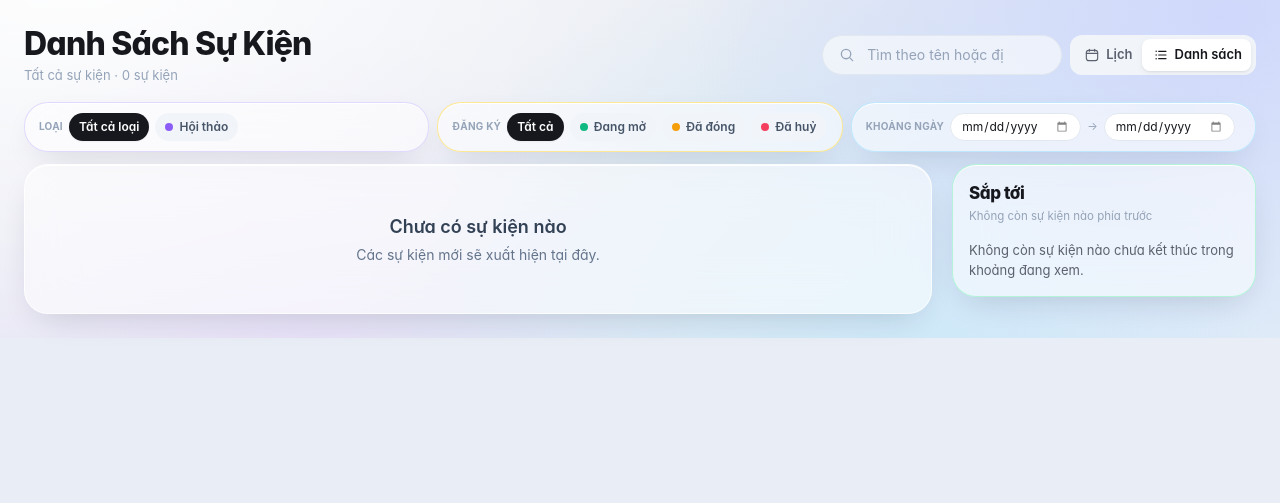
EventListPage — chế độ danh sách › chỉ tìm sau thời gian debounce và cho phép xóa nhanh nội dung
Type "  Nhà văn hóa  " into the search field labelled "Tìm theo tên hoặc địa điểm..." at (942, 55), box [822,35,1062,75]
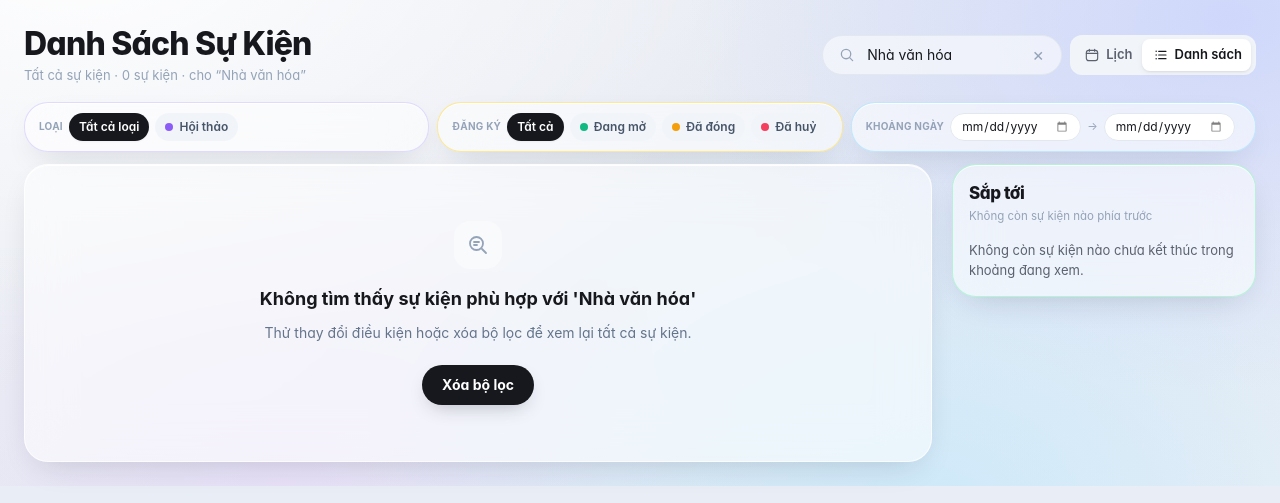
Click the button named "Xóa nội dung tìm kiếm" at (1038, 55), box [1024,41,1052,69]
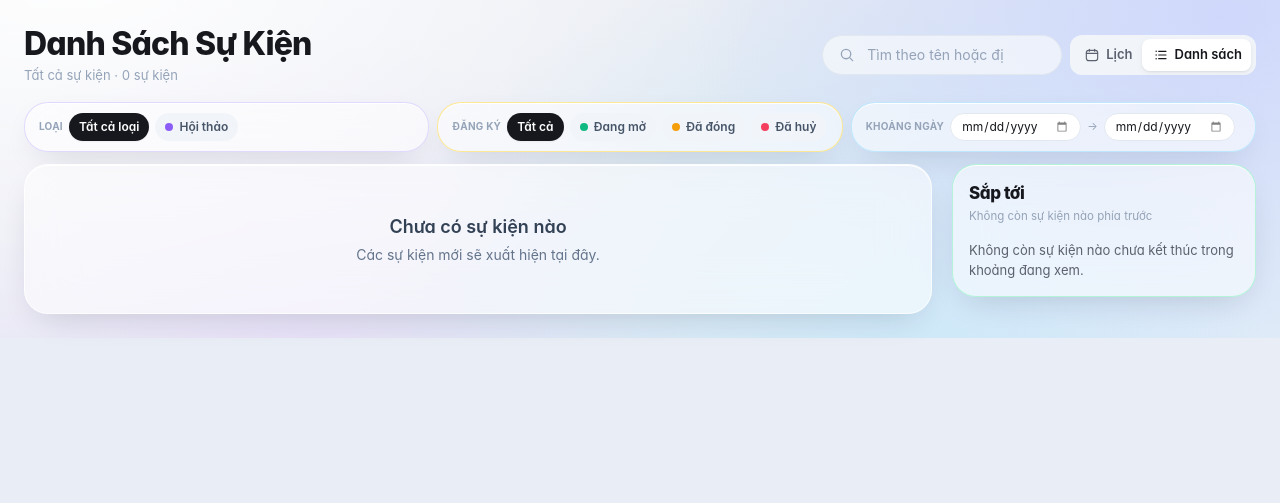
Now the search field labelled "Tìm theo tên hoặc địa điểm..." is empty, box [822,35,1062,75]
